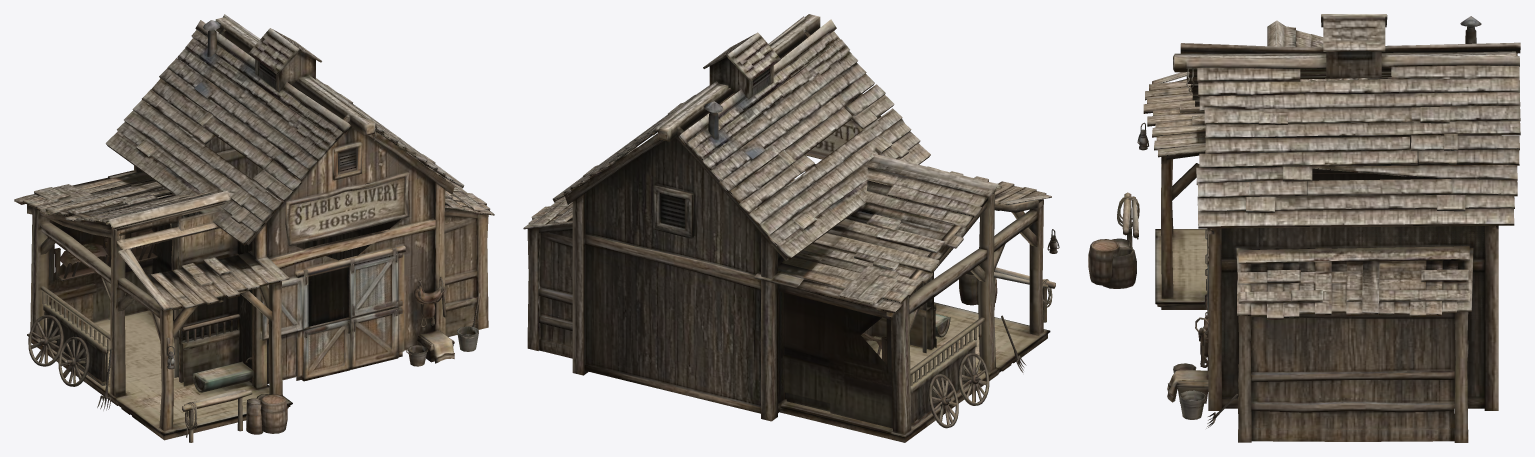
Rendered from stable.glb.
3 renders of one model, left to right at view 1: azimuth 30°, elevation 25°; view 2: azimuth 150°, elevation 25°; view 3: azimuth 270°, elevation 25°, orthographic. The views are drawn at different scales.
Visible parts, largest first — view 1: tripo_node_bd5fcd12-0296-4eff-b7a0-67c102f4b1cf; view 2: tripo_node_bd5fcd12-0296-4eff-b7a0-67c102f4b1cf; view 3: tripo_node_bd5fcd12-0296-4eff-b7a0-67c102f4b1cf.
Part boxes in pixels (bbox=[...]): tripo_node_bd5fcd12-0296-4eff-b7a0-67c102f4b1cf: bbox=[14, 14, 494, 442]; tripo_node_bd5fcd12-0296-4eff-b7a0-67c102f4b1cf: bbox=[523, 14, 1059, 442]; tripo_node_bd5fcd12-0296-4eff-b7a0-67c102f4b1cf: bbox=[1088, 14, 1520, 442].
Bounding box in the file's own units: 0.9995 × 0.7114 × 0.8149.
Materials: 1 (1 with a texture image).
